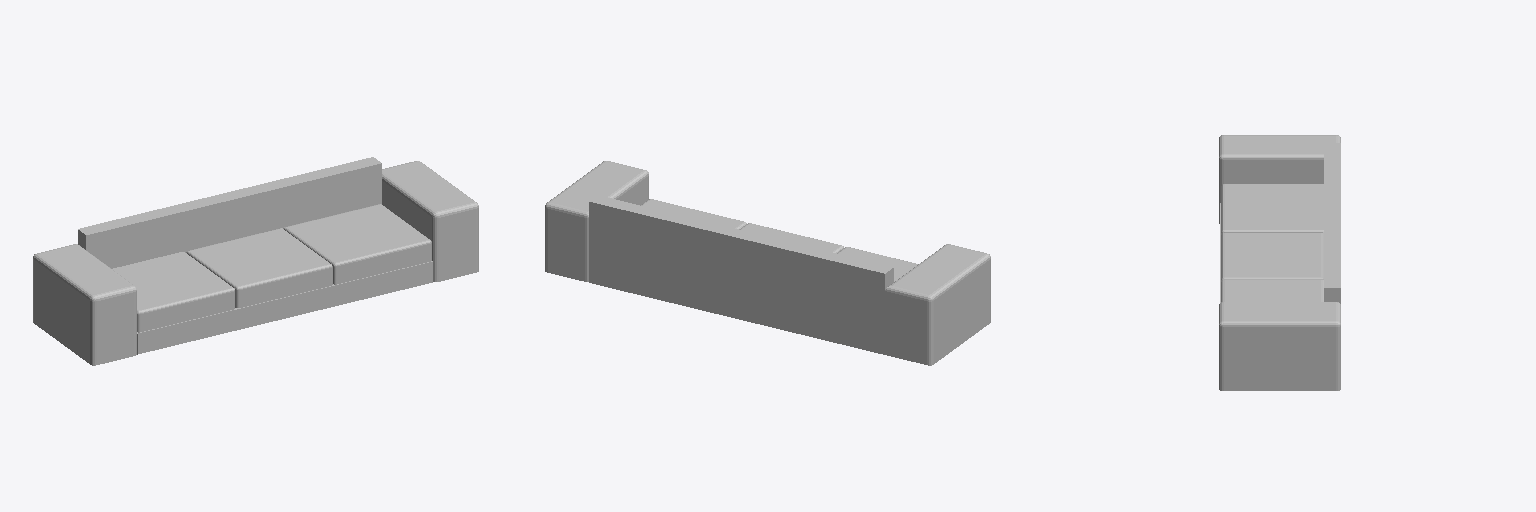
File: 3SeatSofa.obj
3 renders of one model, left to right at view 1: azimuth 30°, elevation 25°; view 2: azimuth 150°, elevation 25°; view 3: azimuth 270°, elevation 25°, orthographic.
Visible parts, largest first — view 1: Box002, Box004, Box003, Box007, Box006, Box001, Box005; view 2: Box002, Box004, Box003, Box007, Box006, Box005; view 3: Box003, Box004, Box005, Box006, Box002, Box007.
Part boxes in pixels (x1,y1,x2,y2): Box002: (78, 157, 381, 268); Box004: (33, 244, 136, 365); Box003: (382, 161, 478, 281); Box007: (283, 204, 431, 284); Box006: (186, 228, 332, 307); Box001: (137, 261, 432, 354); Box005: (112, 252, 234, 332); Box002: (589, 195, 893, 354); Box004: (885, 244, 990, 365); Box003: (545, 161, 648, 281); Box007: (641, 199, 746, 229); Box006: (740, 223, 843, 252); Box005: (837, 247, 917, 281); Box003: (1219, 302, 1340, 390); Box004: (1219, 135, 1340, 223); Box005: (1221, 184, 1323, 234); Box006: (1221, 232, 1323, 281); Box002: (1324, 143, 1340, 303); Box007: (1221, 280, 1323, 301).
Bounding box in the file's own units: 45.18 × 9.05 × 12.36.